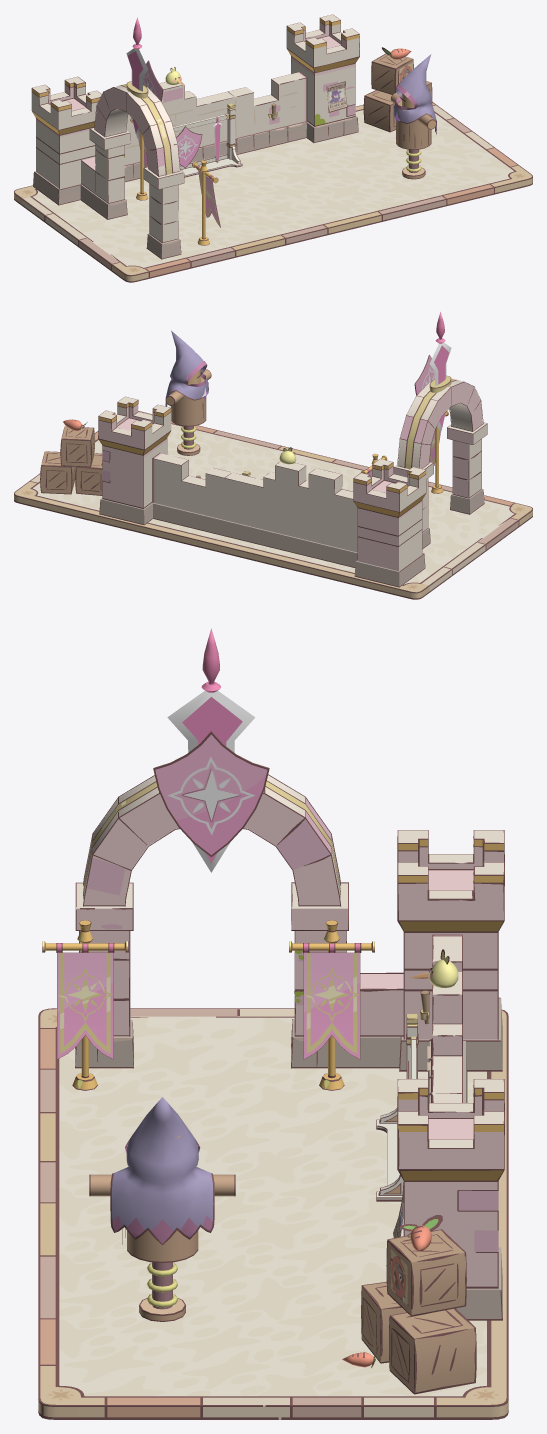
Rendered from Mesh_Home_S0_Maiden_StarSword_SM.fbx.
3 views of the same model, one above another, from view 1: azimuth 30°, elevation 25°; view 2: azimuth 150°, elevation 25°; view 3: azimuth 270°, elevation 25° (orthographic). The views are drawn at different scales.
Parts seen in each view (by area): view 1: Mesh_Home_S0_Maiden_StarSword; view 2: Mesh_Home_S0_Maiden_StarSword; view 3: Mesh_Home_S0_Maiden_StarSword.
Part boxes in pixels (x1,y1,x2,y2): Mesh_Home_S0_Maiden_StarSword: (14,14,532,282); Mesh_Home_S0_Maiden_StarSword: (14,312,532,599); Mesh_Home_S0_Maiden_StarSword: (38,628,508,1419).
Bounding box in the file's own units: 600 × 313 × 300.
